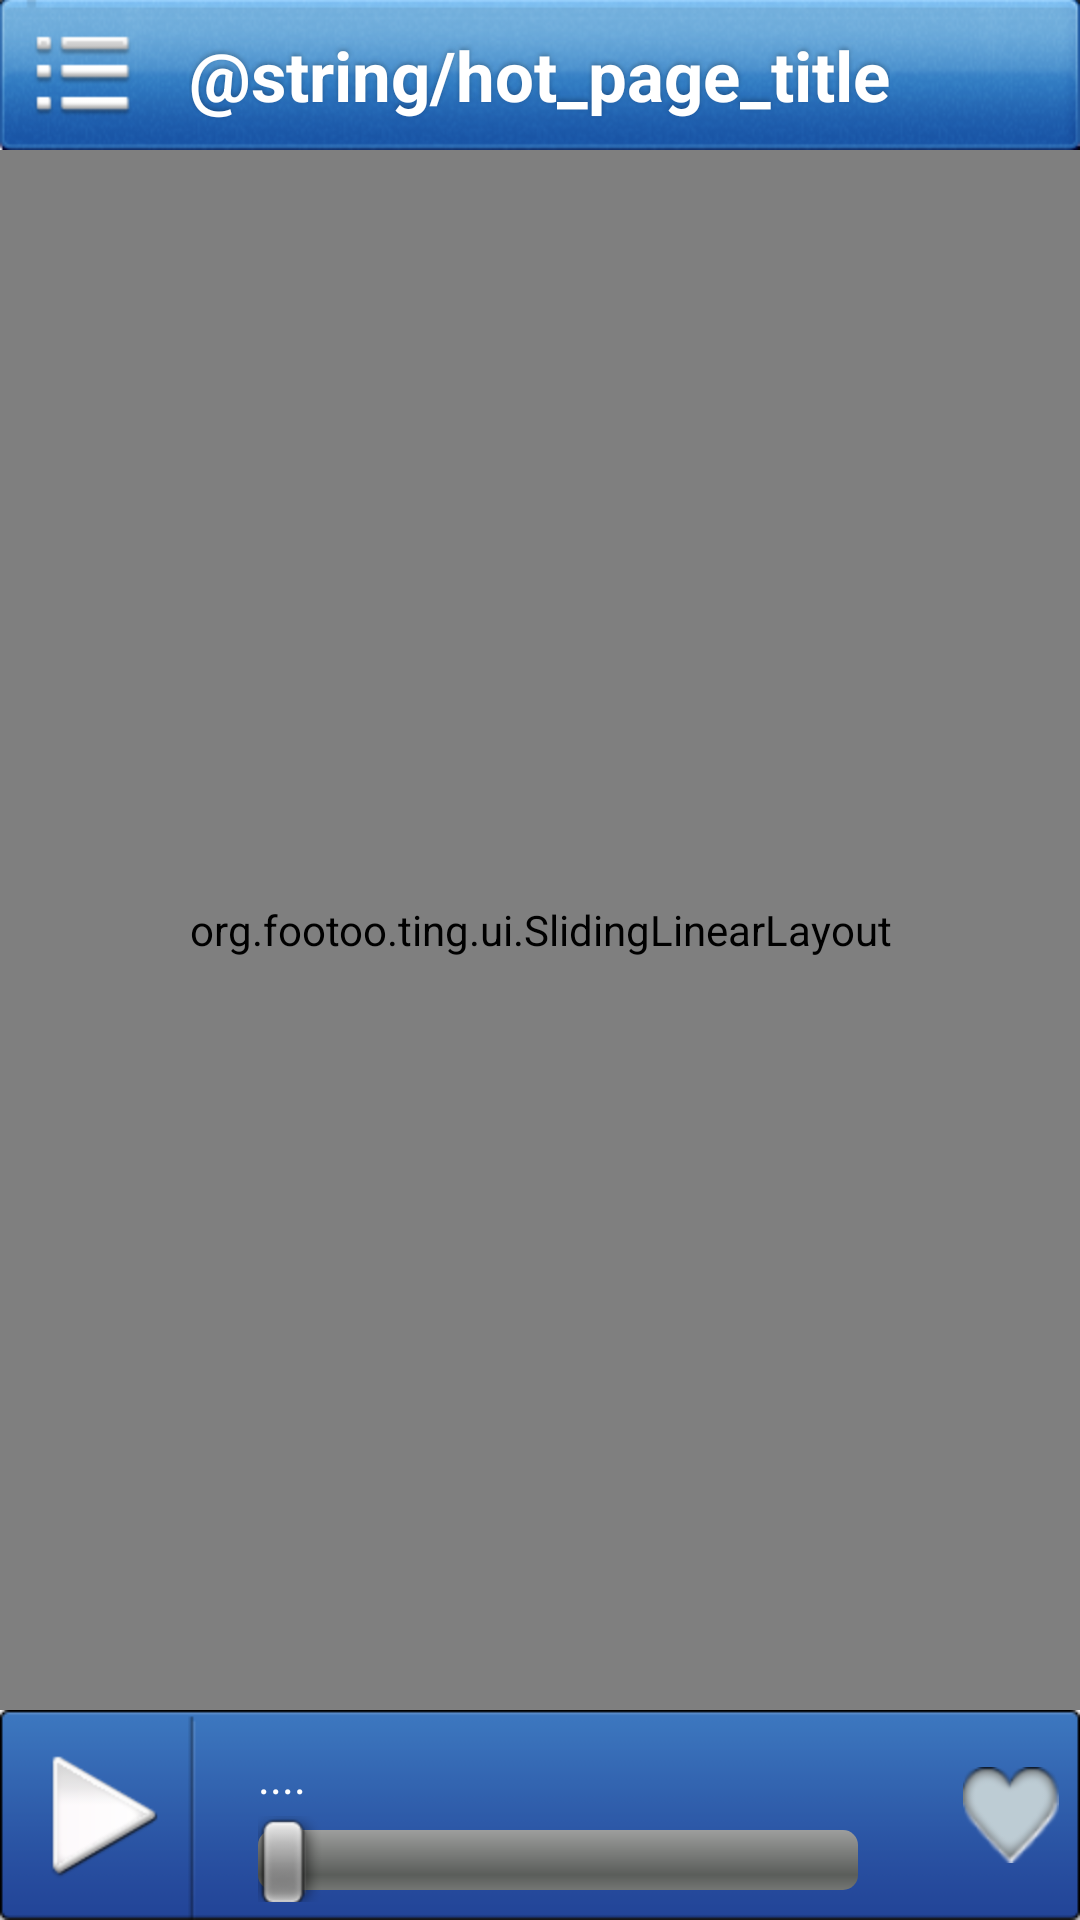

Icons on this 1080*1920 Android screen, each with the point to tap as [x,y]:
favorate: [1011,1815]
play: [101,1815]
